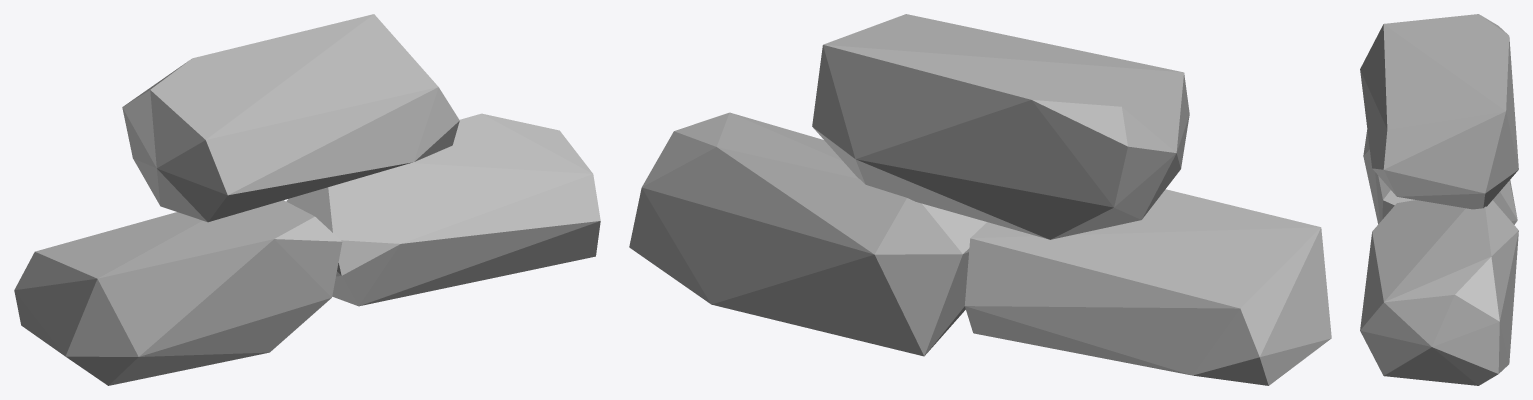
The model's file is stones_005.glb.
The picture shows the model from 3 angles, left to right: view 1: azimuth 30°, elevation 25°; view 2: azimuth 150°, elevation 25°; view 3: azimuth 270°, elevation 25°; orthographic projection. The views are drawn at different scales.
Parts seen in each view (by area): view 1: stones_005; view 2: stones_005; view 3: stones_005.
Part boxes in pixels (x1,y1,x2,y2): stones_005: (14, 14, 600, 385); stones_005: (629, 14, 1331, 385); stones_005: (1360, 14, 1518, 385).
Bounding box in the file's own units: 2.56 × 1.11 × 0.7377.
Materials: 1 (1 with a texture image).
